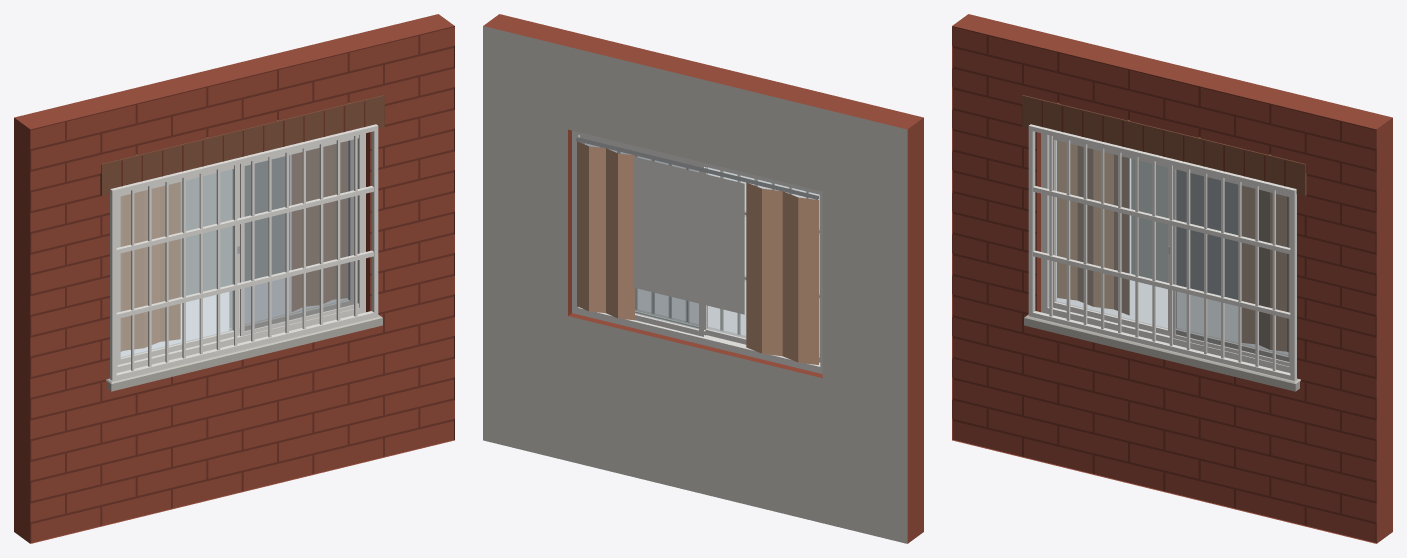
Rendered from SC_Bld_Villa_Wall_Brick_Window_3m_White.gltf.
3 views of the same model, side by side, from view 1: azimuth 30°, elevation 25°; view 2: azimuth 150°, elevation 25°; view 3: azimuth 330°, elevation 25° (orthographic).
Visible parts, largest first — view 1: SC_Bld_Villa_Wall_Brick_Window_3m_White; view 2: SC_Bld_Villa_Wall_Brick_Window_3m_White; view 3: SC_Bld_Villa_Wall_Brick_Window_3m_White.
Boxes of the visible parts, bbox=[...] form: SC_Bld_Villa_Wall_Brick_Window_3m_White: bbox=[14, 14, 454, 543]; SC_Bld_Villa_Wall_Brick_Window_3m_White: bbox=[483, 14, 923, 543]; SC_Bld_Villa_Wall_Brick_Window_3m_White: bbox=[952, 14, 1392, 543].
Bounding box in the file's own units: 3 × 2.8 × 0.255.
Materials: 2 (2 with a texture image).
